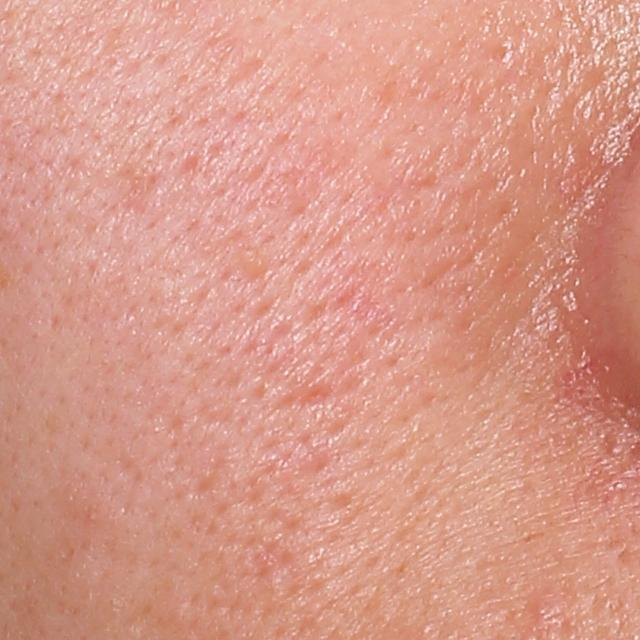atrophic_scar: (119, 161, 159, 222), (218, 55, 264, 95), (275, 381, 332, 412)
comedo: (237, 246, 273, 279)
